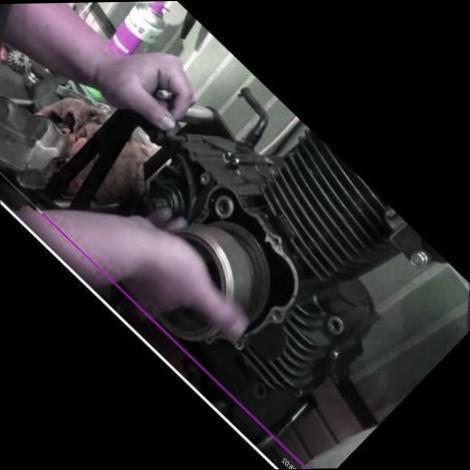hole: (212, 197, 234, 218), (249, 382, 268, 402), (326, 318, 344, 336), (268, 308, 286, 324), (196, 172, 212, 188), (269, 238, 281, 250)
